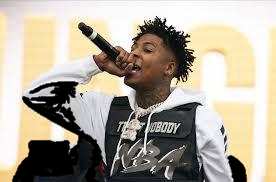quandale-dingle: (124, 27, 183, 89)
